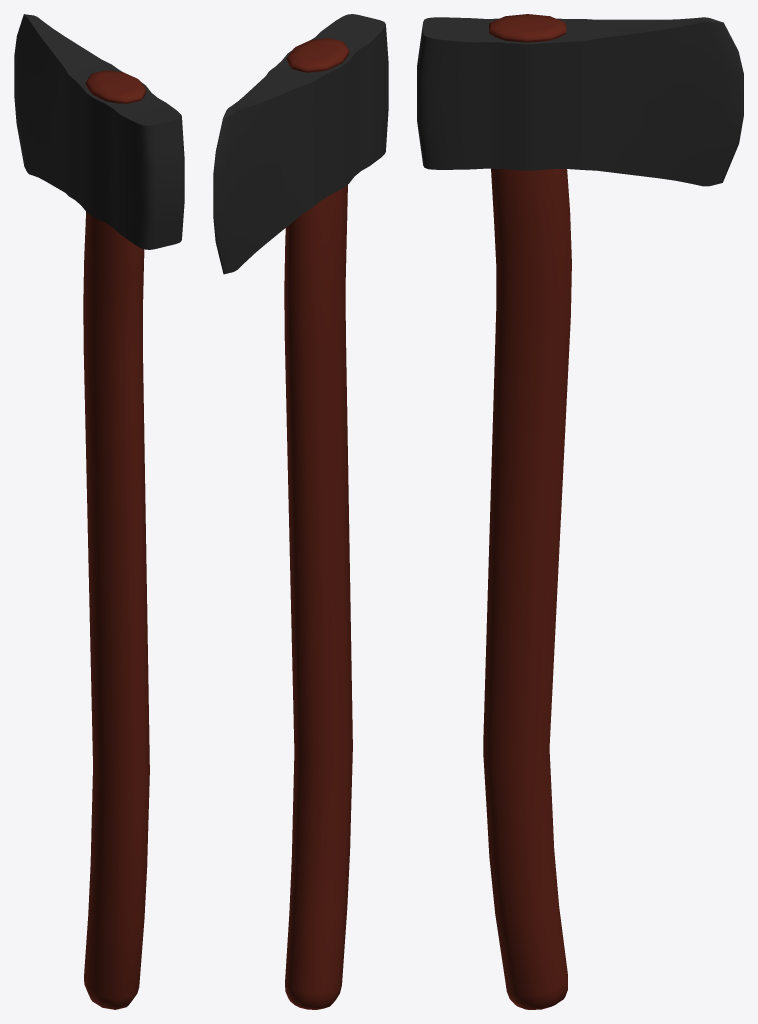
File: Axe.FBX
3 renders of one model, left to right at view 1: azimuth 30°, elevation 25°; view 2: azimuth 150°, elevation 25°; view 3: azimuth 270°, elevation 25°, orthographic. The views are drawn at different scales.
Parts seen in each view (by area): view 1: Stick001, Box001; view 2: Stick001, Box001; view 3: Stick001, Box001.
Part boxes in pixels (box(x1,y1,x2,y2)): Stick001: box(83, 70, 149, 1009); Box001: box(14, 14, 184, 249); Stick001: box(284, 38, 352, 1009); Box001: box(213, 14, 388, 274); Stick001: box(483, 14, 571, 1009); Box001: box(417, 17, 743, 186).
Bounding box in the file's own units: 14 × 237 × 71.21.
